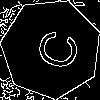C: (26, 23, 82, 73)
